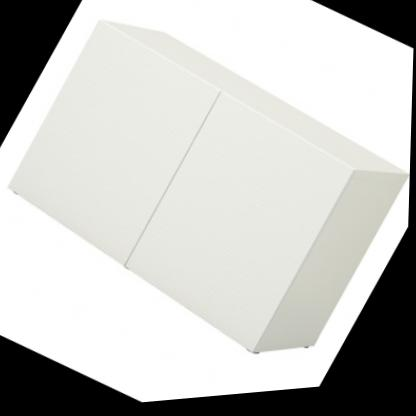Cabinet: (0, 0, 416, 407)
